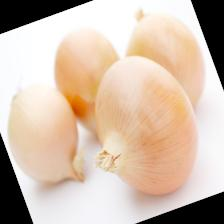onion: (63, 40, 217, 214), (109, 0, 221, 130), (38, 17, 144, 144), (0, 72, 96, 201)
